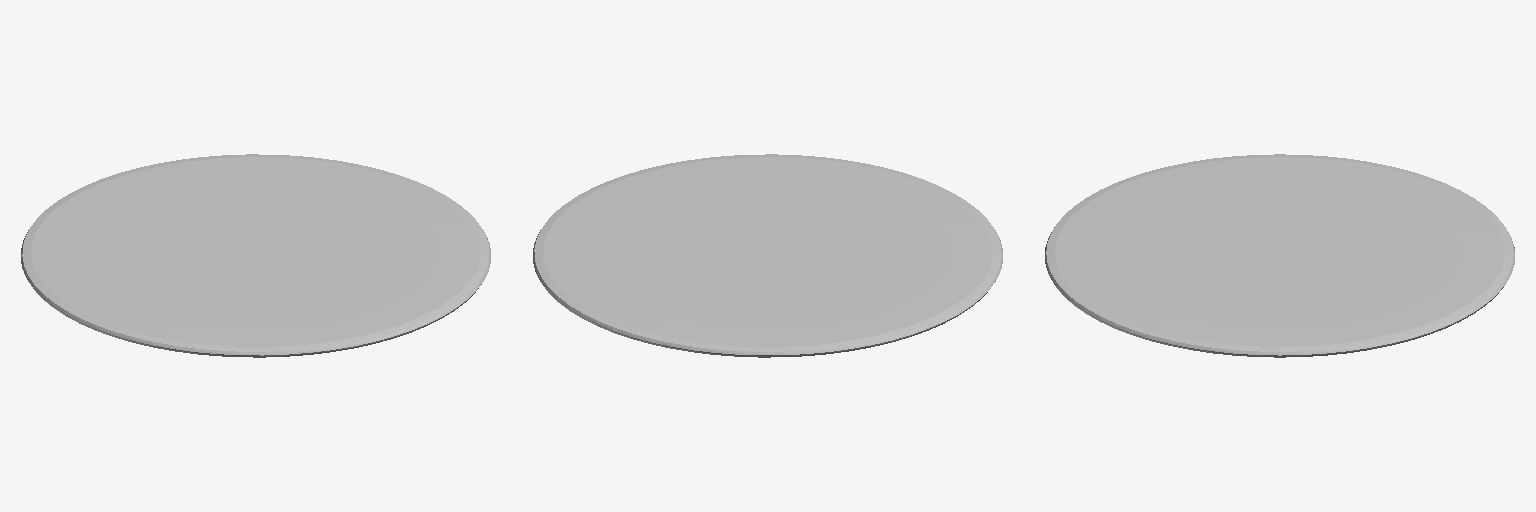
Rendered from factory.obj.
3 renders of one model, left to right at view 1: azimuth 30°, elevation 25°; view 2: azimuth 150°, elevation 25°; view 3: azimuth 270°, elevation 25°, orthographic.
Parts seen in each view (by area): view 1: Factory; view 2: Factory; view 3: Factory.
Boxes of the visible parts, x1=… form: Factory: x1=21, y1=154, x2=490, y2=357; Factory: x1=533, y1=154, x2=1002, y2=357; Factory: x1=1045, y1=154, x2=1514, y2=357.
Bounding box in the file's own units: 0.5958 × 0.0128 × 0.5958.